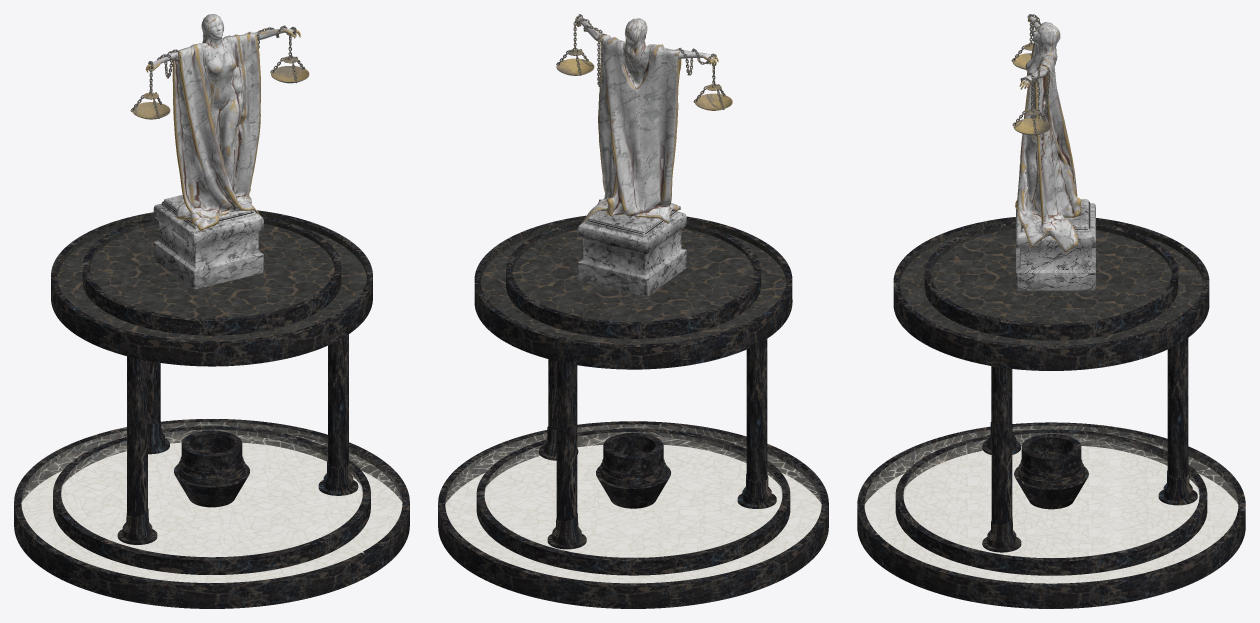
File: themis-shrine-draco-transformed.glb
3 views of the same model, side by side, from view 1: azimuth 30°, elevation 25°; view 2: azimuth 150°, elevation 25°; view 3: azimuth 270°, elevation 25° (orthographic).
Parts seen in each view (by area): view 1: Base, Chains, Base.001; view 2: Base, Chains, Base.001; view 3: Base, Base.001, Chains.
Boxes of the visible parts, x1,y1,x2,y2 form: Base: (14,210,409,608); Chains: (130,14,309,289); Base.001: (57,213,366,366); Base: (438,215,828,608); Chains: (556,14,732,296); Base.001: (480,218,792,369); Base: (857,217,1245,608); Base.001: (896,219,1206,348); Chains: (1011,14,1095,290).
Bounding box in the file's own units: 3.2 × 4.58 × 3.2.
Materials: 7 (7 with a texture image).
